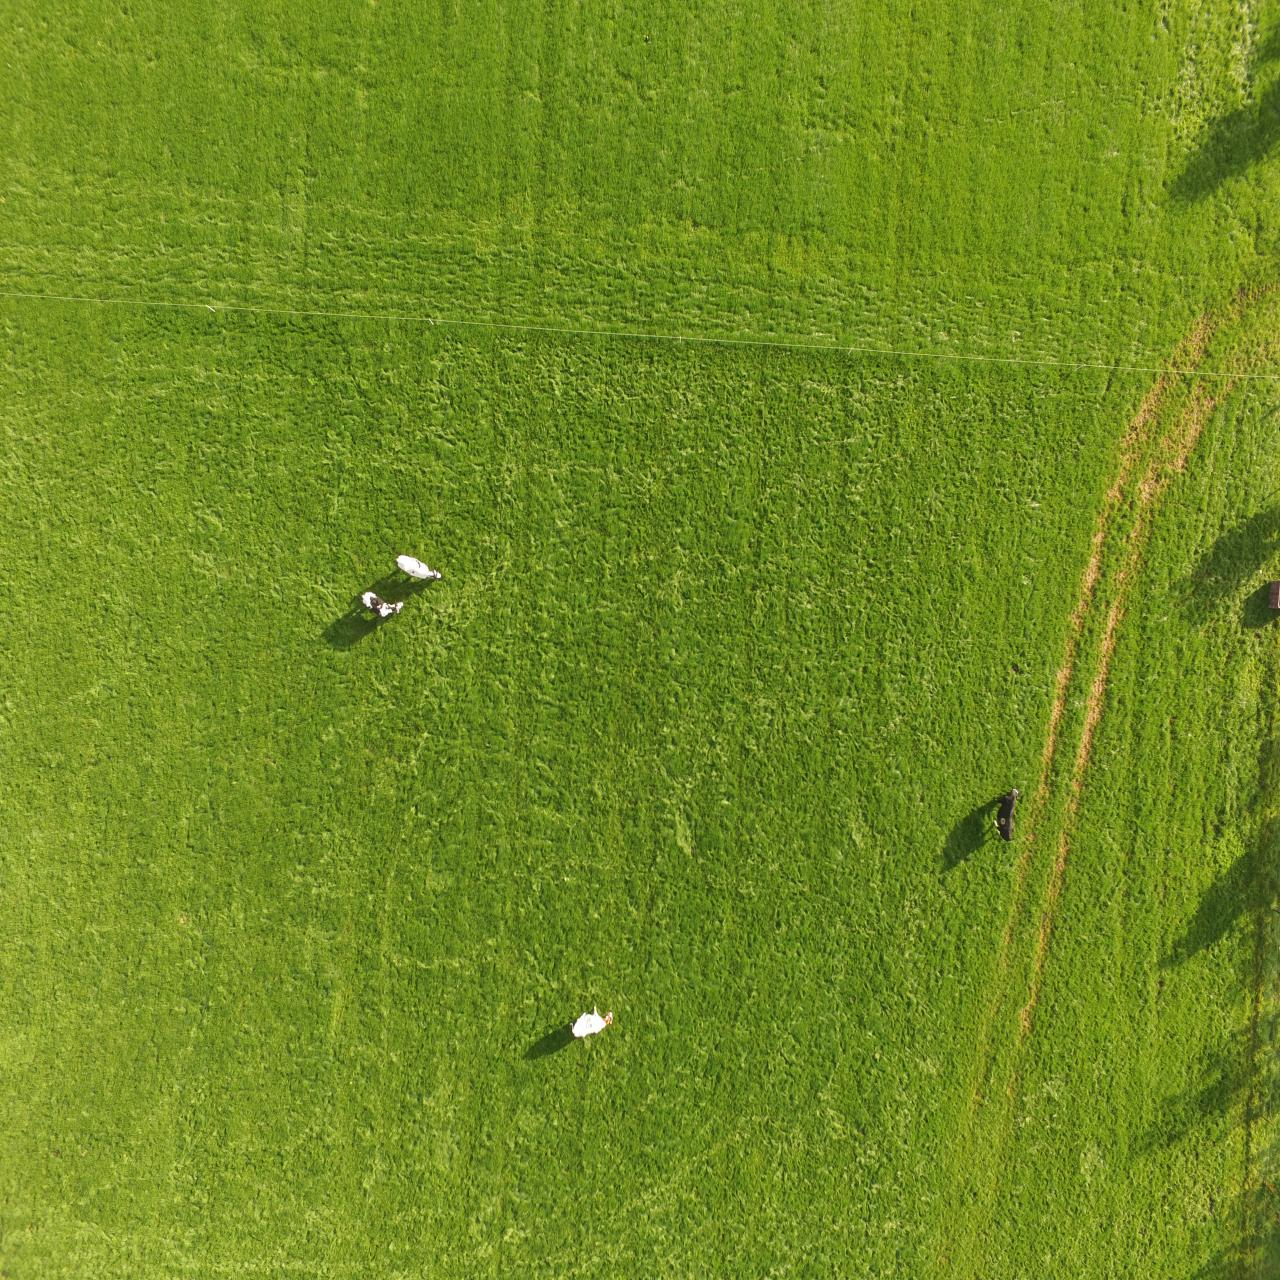cow: (568, 1003, 616, 1039), (992, 784, 1019, 843), (360, 588, 405, 620), (394, 552, 444, 580)
